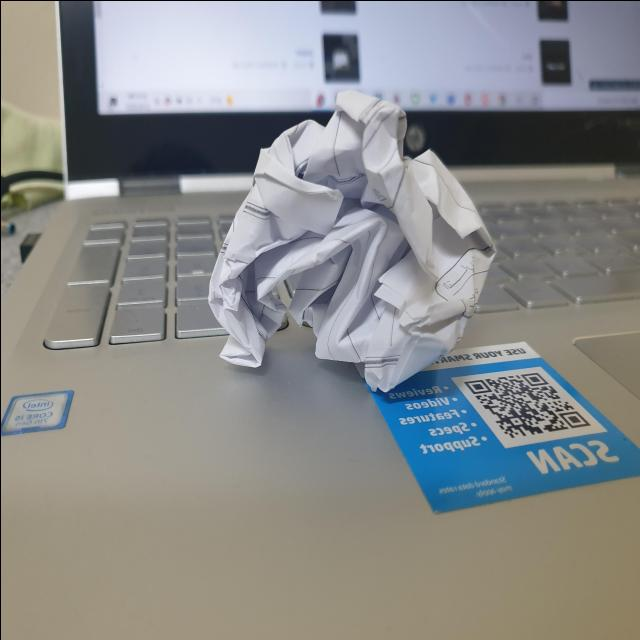kertas: (202, 83, 492, 425)
